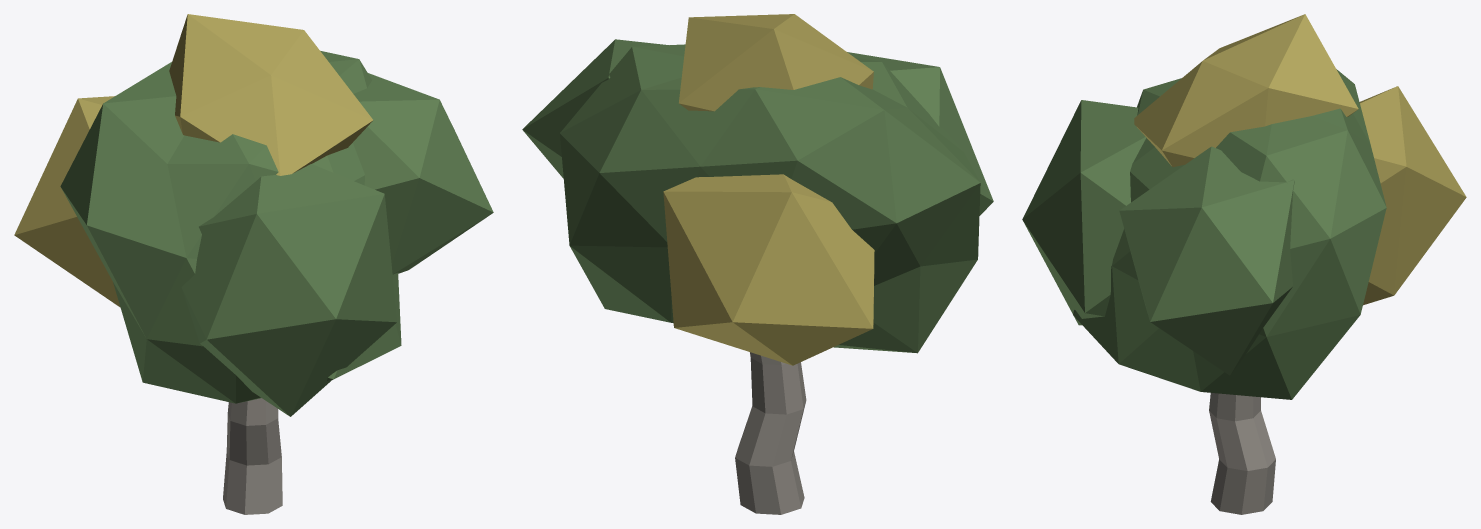
File: v_tree_oak2.glb
The picture shows the model from 3 angles, left to right: view 1: azimuth 30°, elevation 25°; view 2: azimuth 150°, elevation 25°; view 3: azimuth 270°, elevation 25°; orthographic projection. The views are drawn at different scales.
Visible parts, largest first — view 1: Oak; view 2: Oak; view 3: Oak.
Part boxes in pixels (x1,y1,x2,y2): Oak: (14, 14, 493, 514); Oak: (522, 14, 993, 514); Oak: (1022, 14, 1466, 514).
Size of what is drawn, in the model's own units: 5.64 by 6.4 by 5.46.
